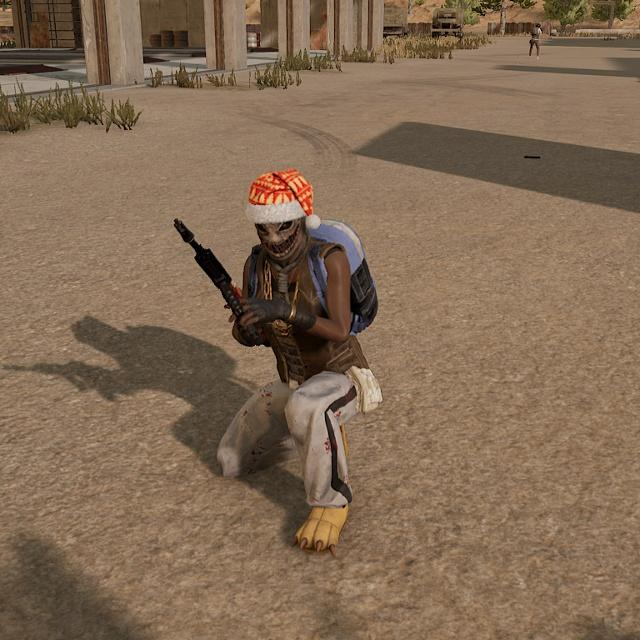head: (244, 167, 315, 264)
people: (199, 162, 391, 554)
